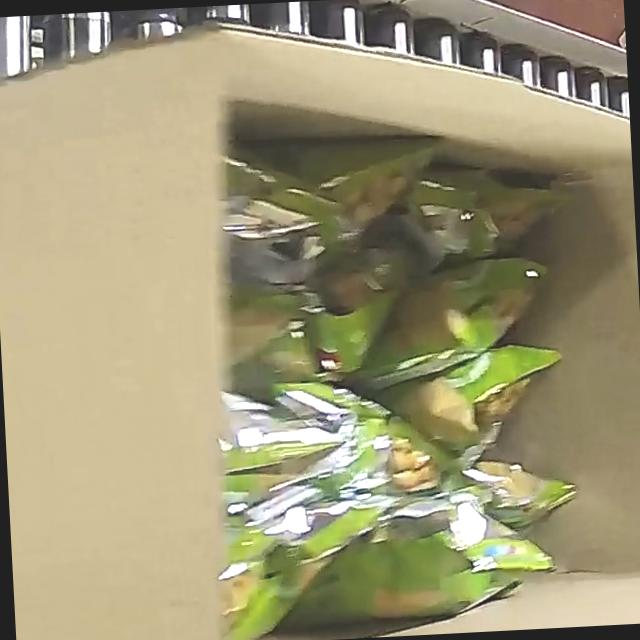yogurt: (196, 120, 600, 640)
